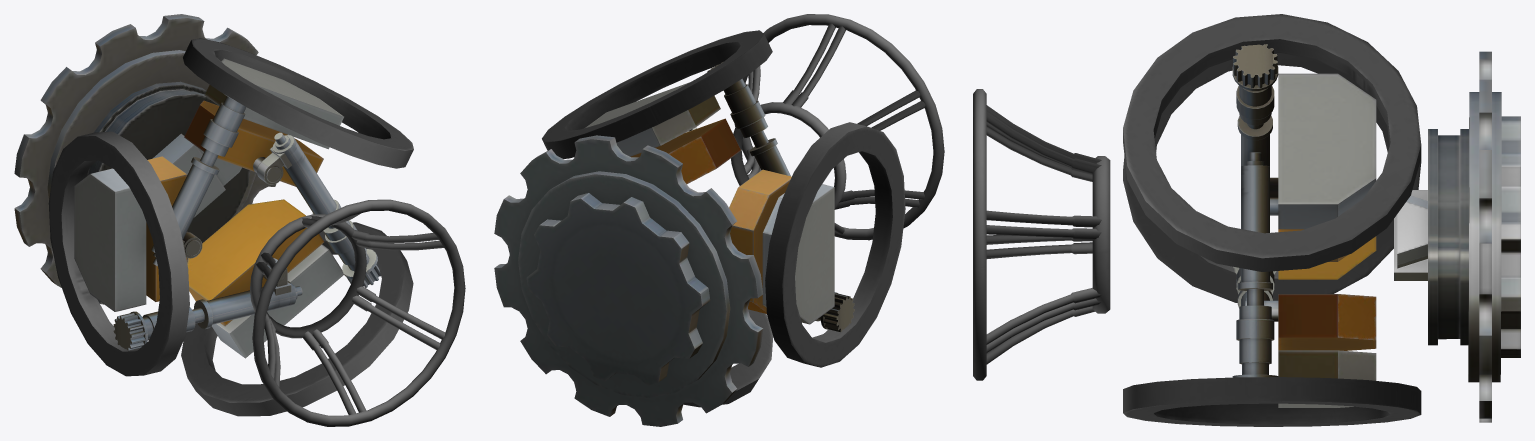
Rendered from windpowergenerator_inside_2001_01.obj.
3 renders of one model, left to right at view 1: azimuth 30°, elevation 25°; view 2: azimuth 150°, elevation 25°; view 3: azimuth 270°, elevation 25°, orthographic. The views are drawn at different scales.
Parts seen in each view (by area): view 1: polySurface152; view 2: polySurface152; view 3: polySurface152.
Boxes of the visible parts, left/top/right/bottom form: polySurface152: left=14, top=14, right=465, bottom=426; polySurface152: left=494, top=14, right=944, bottom=426; polySurface152: left=973, top=14, right=1520, bottom=426.
Bounding box in the file's own units: 317 × 359 × 431.
Materials: 1 (1 with a texture image).
